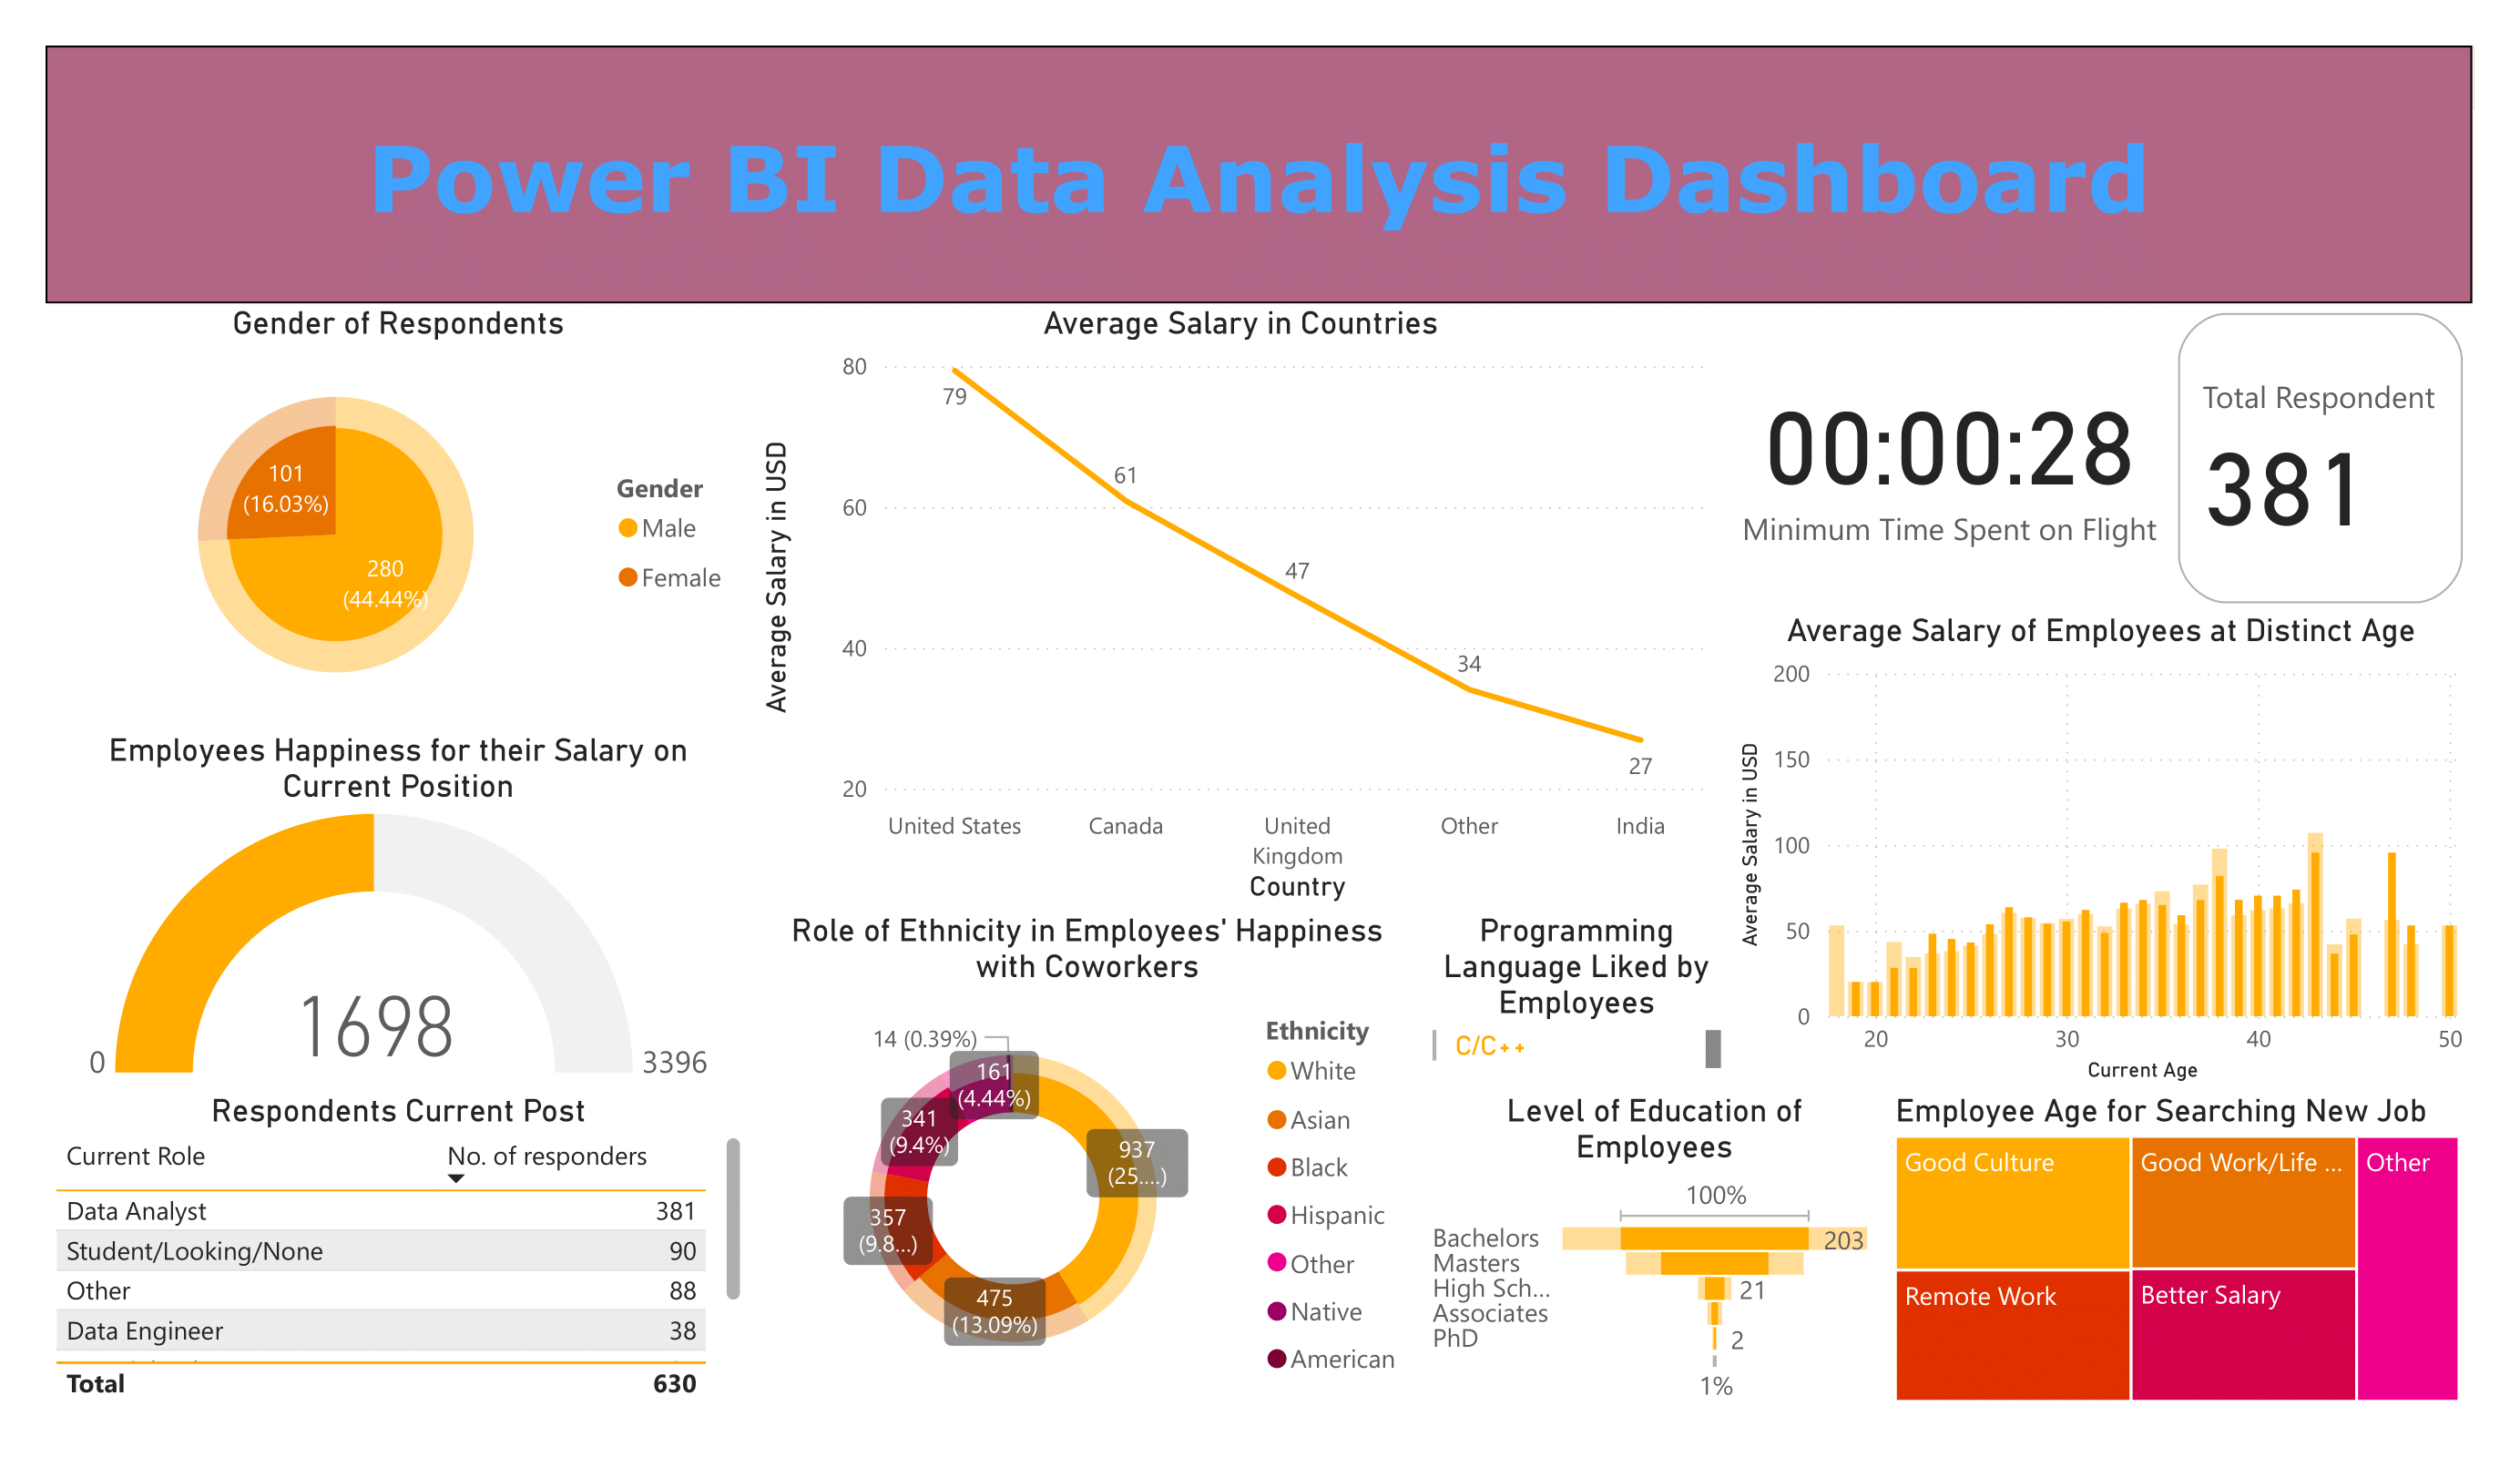

The dashboard page shown, as its layout file describes it:
{"tool":"powerbi","page":{"name":"Page 1","canvas":[1280,720],"ordinal":0},"visuals":[{"type":"textbox","title":"gdfgfdgdf","box":[0,0,1279.4,136.1],"z":0},{"type":"cardVisual","fields":{"Data":["Count(Data Professional Survey.Unique ID)"]},"box":[1118.7,136.1,160.6,162.5],"z":1000},{"type":"gauge","fields":{"Y":["Sum(Data Professional Survey.Q6 - How Happy are you in your Current Position with the following? (Salary))"]},"box":[0,360.9,371.7,190.2],"z":2000},{"type":"pieChart","title":"Gender of Respondents","fields":{"Category":["Data Professional Survey.Q9 - Male/Female?"],"Y":["CountNonNull(Data Professional Survey.Q9 - Male/Female?)"]},"box":[0,136.1,371.7,224.7],"z":3000},{"type":"columnChart","title":"Average Salary of Employees at Distinct Age","fields":{"Category":["Data Professional Survey.Q10 - Current Age"],"Y":["Avg(Data Professional Survey.Avg Salary)"]},"box":[888.2,298.2,391.1,252.8],"z":4000},{"type":"lineChart","title":"Average Salary in Countries","fields":{"Category":["Data Professional Survey.Q11 - Which Country do you live in?.1"],"Y":["Avg(Data Professional Survey.Avg Salary)"]},"box":[371.7,136.1,516.5,319.8],"z":5000},{"type":"card","fields":{"Values":["Min(Data Professional Survey.Time Spent)"]},"box":[888.2,136.1,231.2,159.9],"z":6000},{"type":"treemap","title":"Employee Age for Searching New Job","fields":{"Group":["Data Professional Survey.Q8 - If you were to look for a new job today, what would be the most important t"],"Values":["Avg(Data Professional Survey.Q10 - Current Age)"]},"box":[970.3,551,306.9,168.6],"z":7000},{"type":"donutChart","title":"Role of Ethnicity in Employees'' Happiness with Coworkers","fields":{"Category":["Data Professional Survey.Q13 - Ethnicity.1"],"Y":["Sum(Data Professional Survey.Q6 - How Happy are you in your Current Position with the following? (Coworkers))"]},"box":[371.7,456,354.4,263.6],"z":8000},{"type":"funnel","title":"Level of Education of Employees","fields":{"Category":["Data Professional Survey.Q12 - Highest Level of Education"],"Y":["CountNonNull(Data Professional Survey.Q12 - Highest Level of Education)"]},"box":[726.1,551,244.2,168.6],"z":9000},{"type":"multiRowCard","title":"Programming Language Liked by Employees","fields":{"Values":["Data Professional Survey.Q5 - Favorite Programming Language.1"]},"box":[726.1,456,162.1,95.1],"z":10000},{"type":"tableEx","title":"Respondents Current Post","fields":{"Values":["Data Professional Survey.Q1 - Which Title Best Fits your Current Role?.1","CountNonNull(Data Professional Survey.Q1 - Which Title Best Fits your Current Role?.1)"]},"box":[0,551,371.7,168.6],"z":10001}]}

Visuals, with their boxes in screenshot pixels (x1, y1, x2, y2):
"gdfgfdgdf" textbox: rect(46, 46, 2474, 304)
cardVisual - Count(Data Professional Survey.Unique ID): rect(2168, 304, 2474, 612)
gauge - Sum(Data Professional Survey.Q6 - How Happy are you in your Current Position with the following? (Salary)): rect(46, 730, 750, 1091)
"Gender of Respondents" pieChart: rect(46, 304, 750, 730)
"Average Salary of Employees at Distinct Age" columnChart: rect(1731, 611, 2474, 1091)
"Average Salary in Countries" lineChart: rect(750, 304, 1731, 911)
card - Min(Data Professional Survey.Time Spent): rect(1731, 304, 2169, 607)
"Employee Age for Searching New Job" treemap: rect(1887, 1091, 2469, 1411)
"Role of Ethnicity in Employees'' Happiness with Coworkers" donutChart: rect(750, 911, 1423, 1411)
"Level of Education of Employees" funnel: rect(1423, 1091, 1887, 1411)
"Programming Language Liked by Employees" multiRowCard: rect(1423, 911, 1731, 1091)
"Respondents Current Post" tableEx: rect(46, 1091, 750, 1411)
